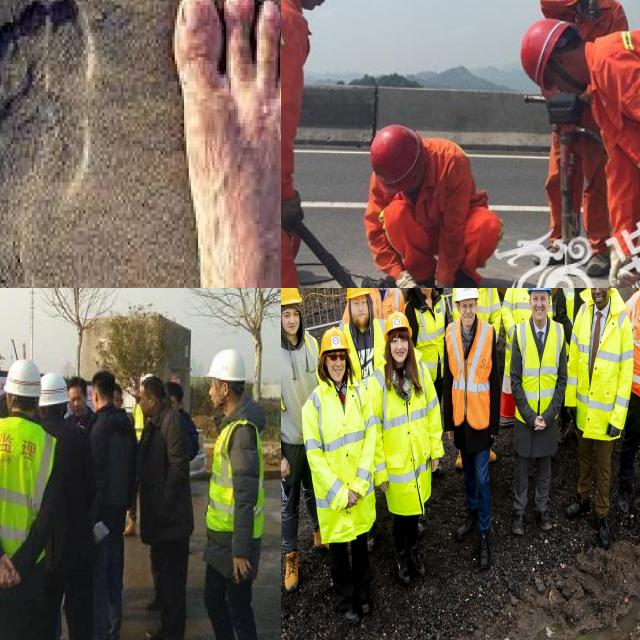No_Ear-Protection: (554, 51, 568, 68)
Sandals: (173, 0, 281, 288)
face_nomask: (288, 0, 342, 19), (281, 309, 303, 346), (388, 334, 412, 367), (328, 352, 352, 383), (532, 291, 550, 326), (458, 296, 477, 327), (352, 301, 368, 332), (591, 288, 609, 308), (421, 288, 434, 296)
glasses: (328, 351, 349, 363), (461, 302, 476, 313)
hand_noglove: (529, 409, 549, 438), (281, 453, 290, 492)
head_helmet: (511, 10, 583, 93), (359, 122, 429, 177), (0, 347, 43, 398), (29, 358, 72, 409), (205, 342, 248, 392), (321, 326, 355, 356), (384, 310, 412, 338), (281, 288, 303, 304), (454, 288, 479, 302), (345, 288, 371, 300)
head_nohelmet: (96, 368, 117, 408), (70, 372, 88, 396)
person: (171, 321, 275, 640), (541, 12, 640, 288), (0, 342, 79, 640), (371, 94, 492, 288), (526, 0, 630, 225), (281, 0, 359, 288), (303, 333, 380, 621), (76, 367, 146, 640), (376, 315, 442, 584), (131, 376, 197, 640), (566, 288, 633, 542), (445, 288, 500, 568), (508, 288, 565, 532), (281, 288, 318, 591), (617, 288, 640, 520), (406, 288, 449, 388), (341, 288, 385, 371), (451, 288, 502, 333), (556, 288, 590, 338), (511, 288, 546, 326), (368, 288, 405, 321)
shoes: (281, 548, 302, 596), (454, 508, 483, 542), (404, 540, 428, 580), (475, 523, 494, 573), (390, 544, 411, 588), (337, 588, 360, 627), (592, 507, 612, 551), (564, 490, 593, 520), (532, 493, 553, 533), (353, 583, 375, 616), (618, 475, 633, 517), (511, 500, 527, 537)
vest: (193, 410, 270, 545), (301, 380, 377, 503), (372, 362, 446, 486), (0, 411, 53, 570), (568, 302, 632, 424), (446, 322, 494, 433), (602, 33, 640, 155), (516, 315, 562, 413), (408, 289, 450, 370), (470, 288, 505, 326), (368, 288, 405, 322), (502, 288, 529, 332), (561, 288, 587, 320)
